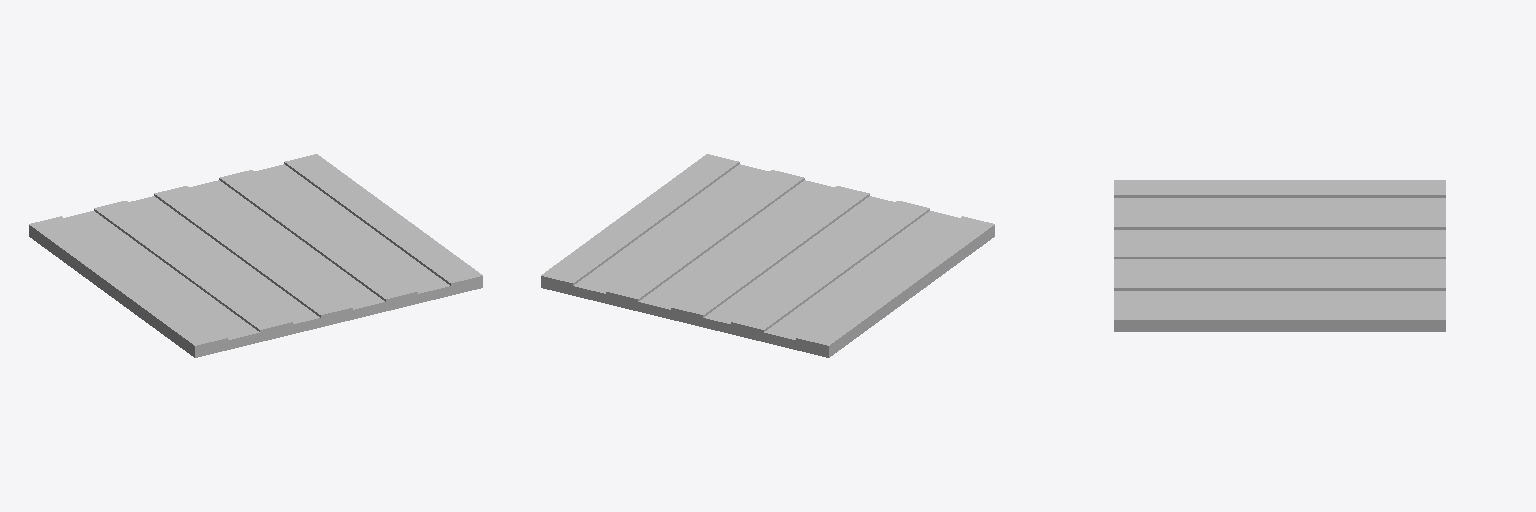
File: tile carretera paso.obj
3 renders of one model, left to right at view 1: azimuth 30°, elevation 25°; view 2: azimuth 150°, elevation 25°; view 3: azimuth 270°, elevation 25°, orthographic.
Visible parts, largest first — view 1: object 1; view 2: object 1; view 3: object 1.
Part boxes in pixels (x1,y1,x2,y2): object 1: (29, 154, 482, 357); object 1: (541, 154, 994, 357); object 1: (1114, 180, 1445, 331).
Size of the model in its own units: 12.4 by 0.5 by 12.4.